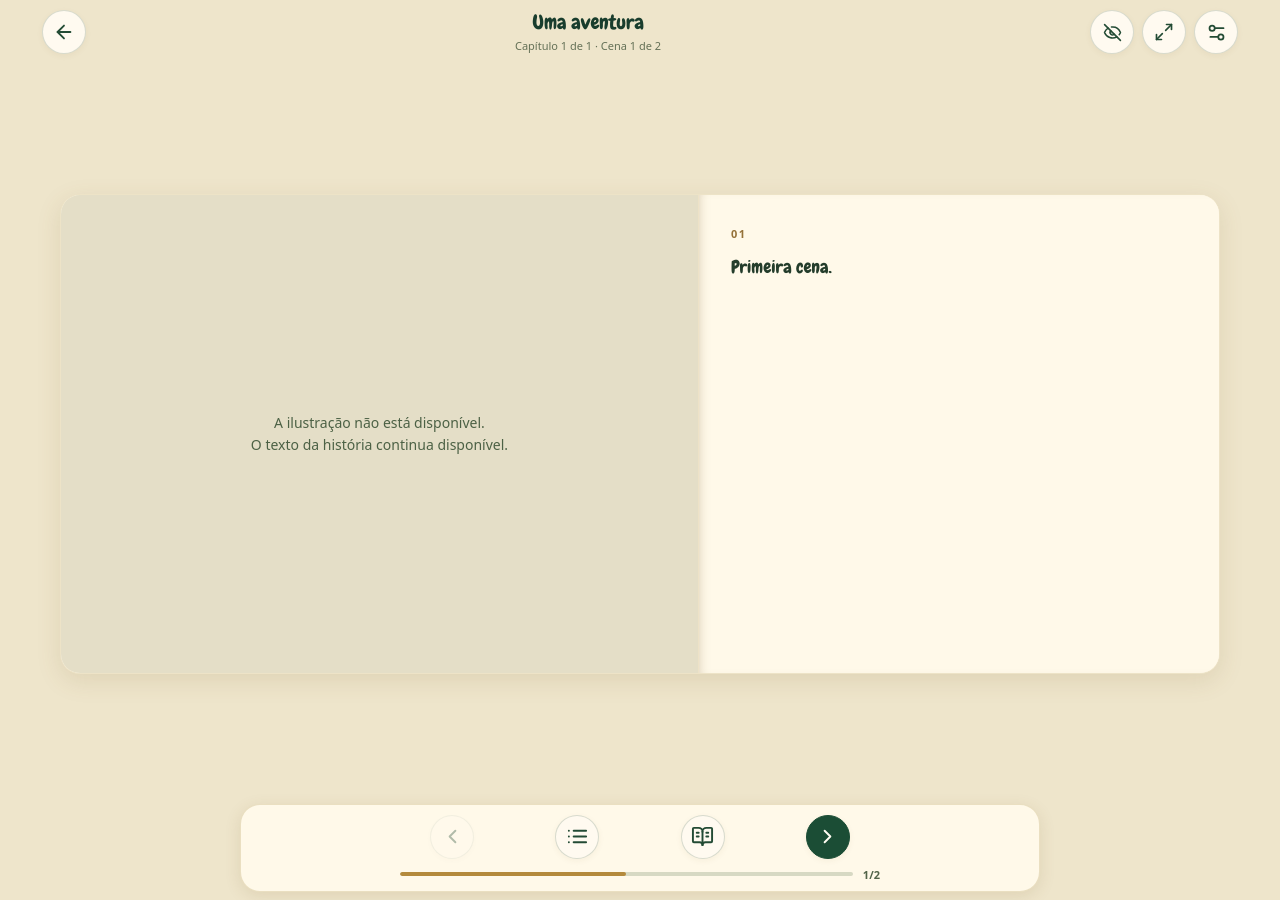
Test: controle de tela cheia independente › não simula fullscreen quando a API é ausente
Click the button named "Entrar em tela cheia". click: coordinates (1164, 32)
box: [1142,10,1186,54]
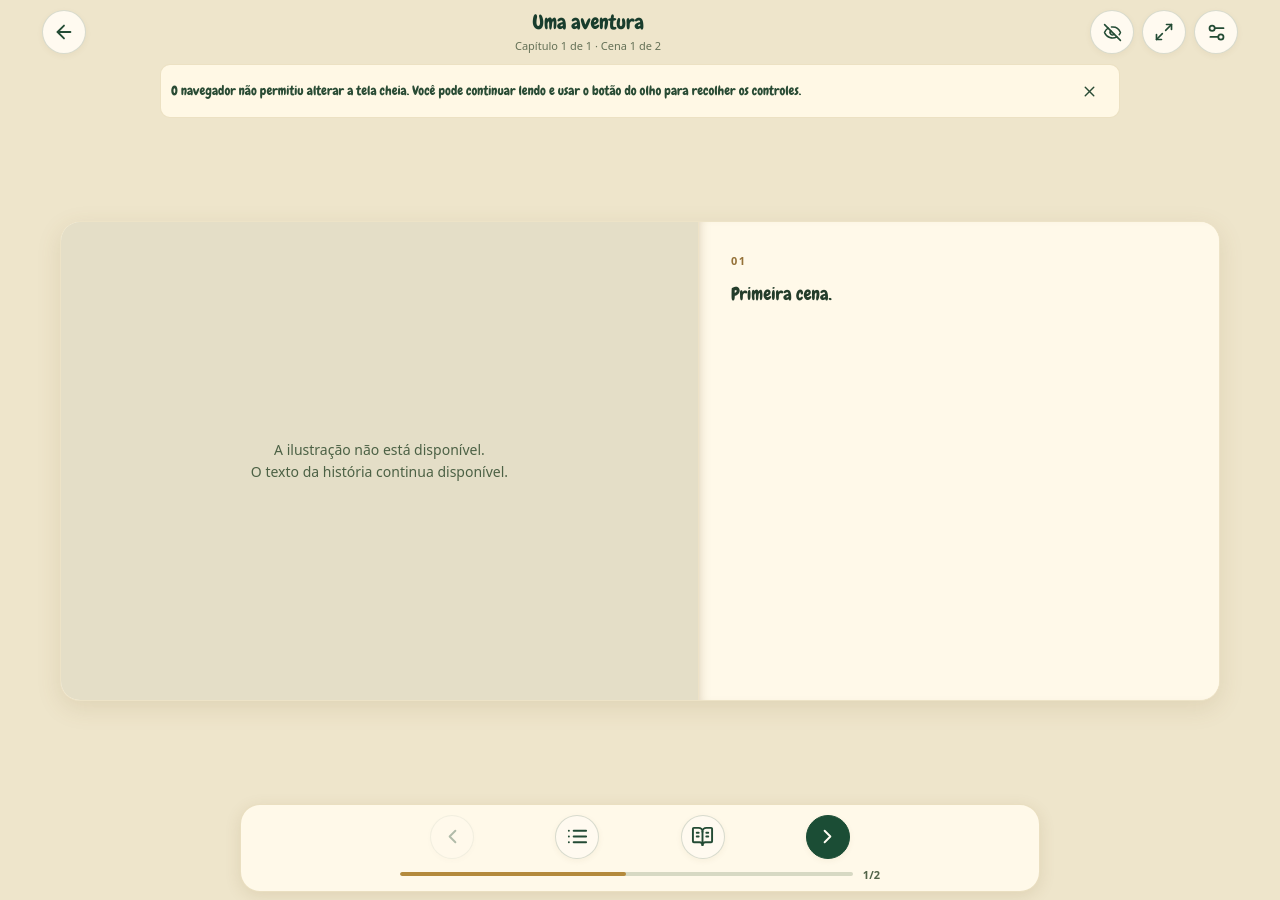
Expected: the button named "Recolher controles" is enabled, [1090,10,1134,54]
Expected: the message shows "O navegador não permitiu alterar a tela cheia", [171,82,801,99]
Click the button named "Fechar aviso de tela cheia". click: coordinates (1089, 91)
box: [1069,71,1109,111]
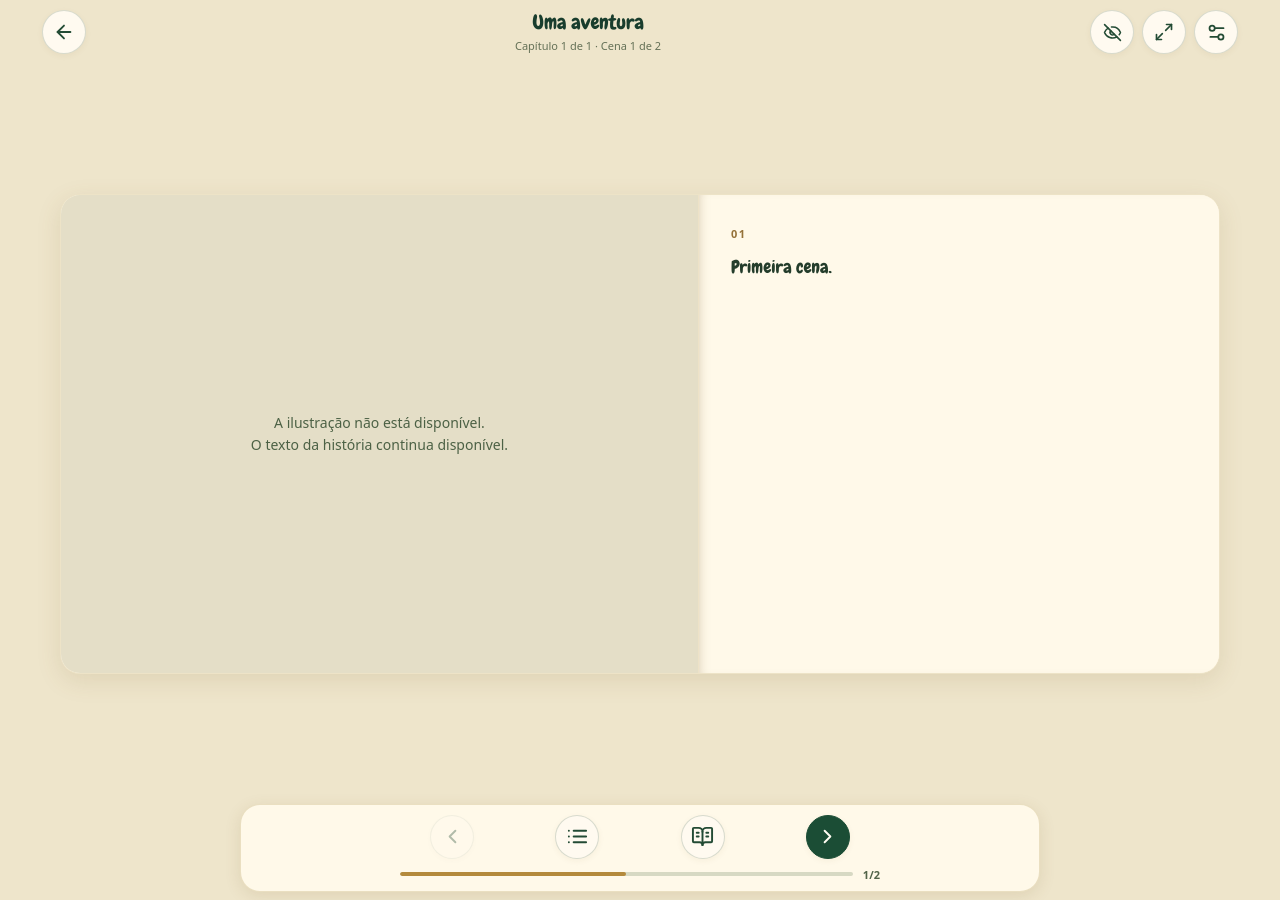
Expected: the message "O navegador não permitiu alterar a tela cheia. Você pode continuar lendo e usar" is gone
